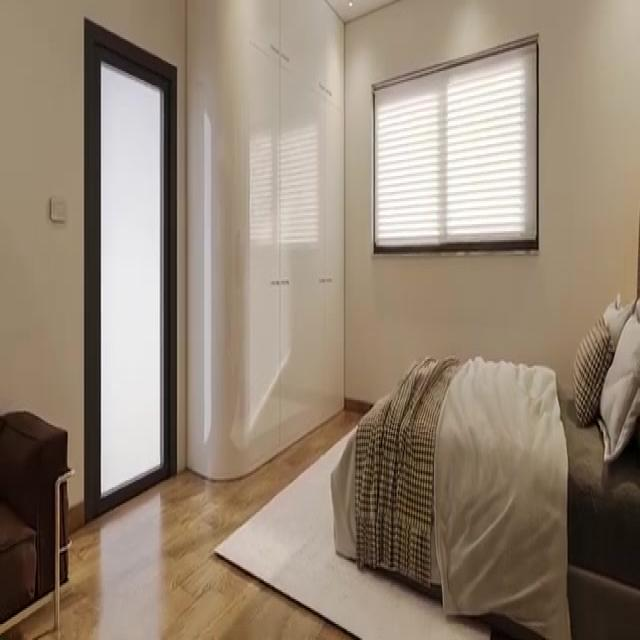door: (86, 20, 176, 502)
obstacle: (335, 289, 640, 640)
